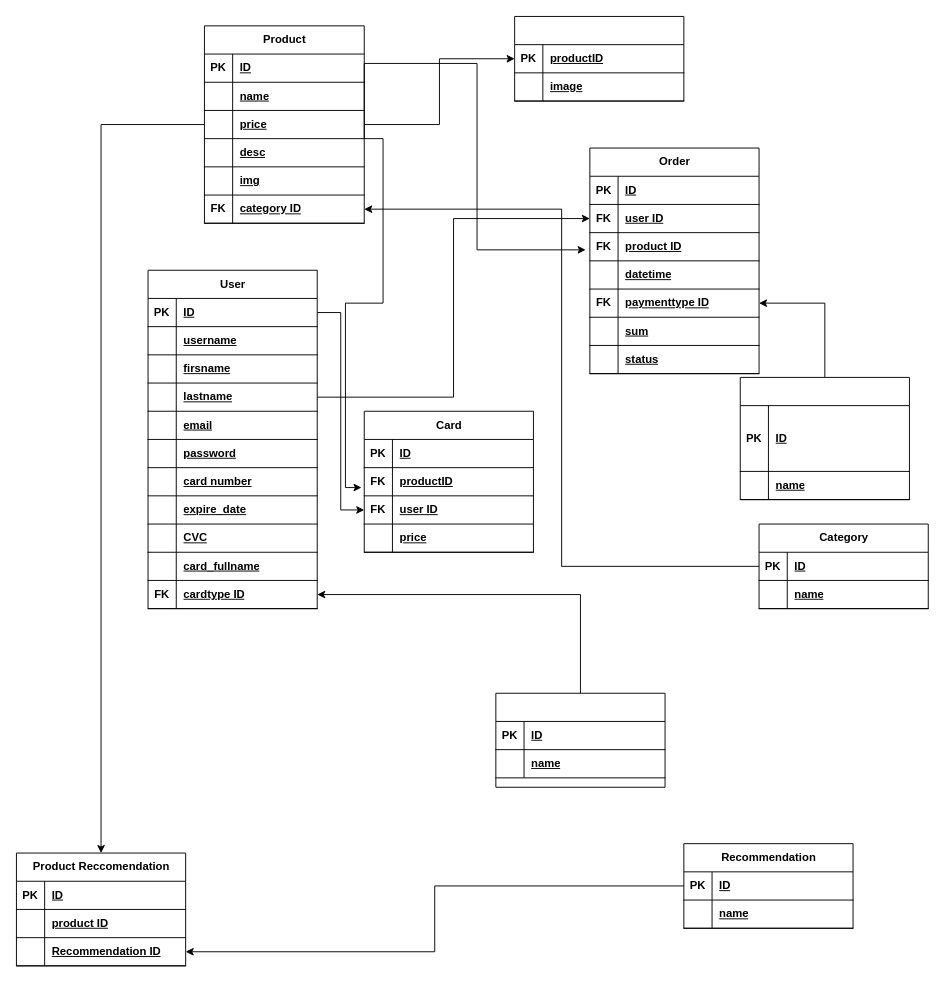
Image size: 945x982. Some labels were removed from this diagram. The shapes that lost their labels are listed below. From the top down, each one's box as (x1, y1, x2, y2) in pixels, then its label:
(514, 16, 684, 101): Product Images
(739, 376, 909, 500): Payment ID
(495, 692, 665, 787): Cardtype
